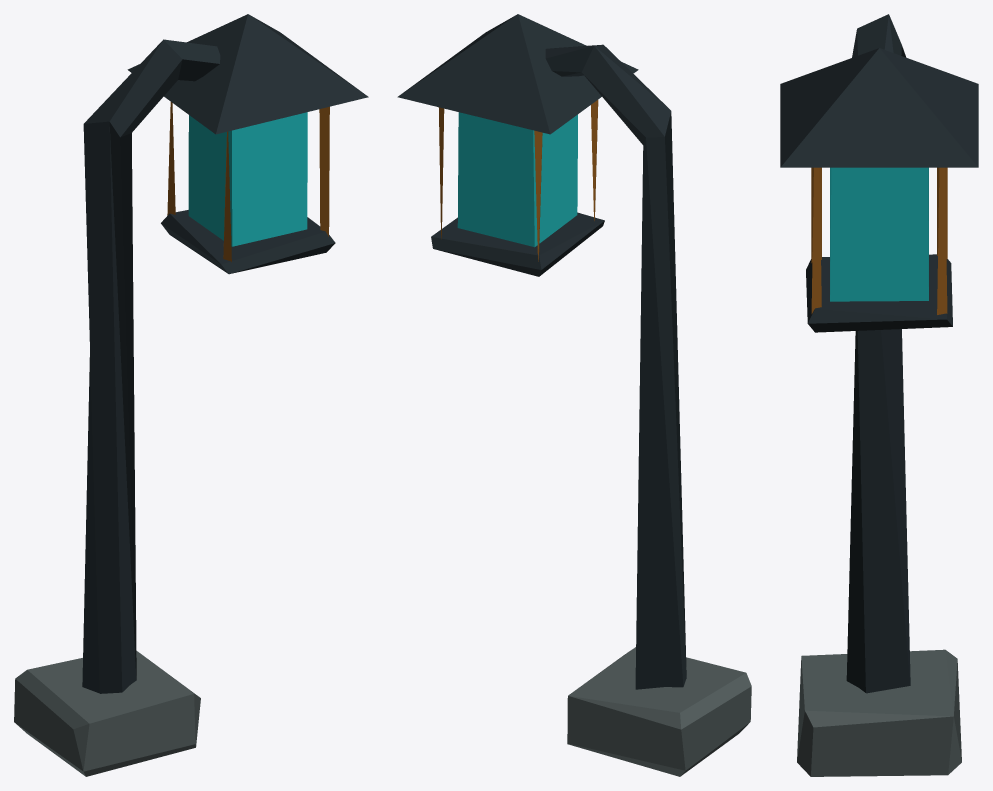
File: Lanterna_de_rua_LOD1.fbx
The picture shows the model from 3 angles, left to right: view 1: azimuth 30°, elevation 25°; view 2: azimuth 150°, elevation 25°; view 3: azimuth 270°, elevation 25°; orthographic projection. The views are drawn at different scales.
Parts seen in each view (by area): view 1: Lanterna_de_rua_LOD1; view 2: Lanterna_de_rua_LOD1; view 3: Lanterna_de_rua_LOD1.
Part boxes in pixels (x1=…): Lanterna_de_rua_LOD1: x1=14, y1=14, x2=368, y2=776; Lanterna_de_rua_LOD1: x1=397, y1=14, x2=751, y2=776; Lanterna_de_rua_LOD1: x1=780, y1=14, x2=978, y2=776.
Bounding box in the file's own units: 110 × 260 × 60.
Materials: 1 (1 with a texture image).
